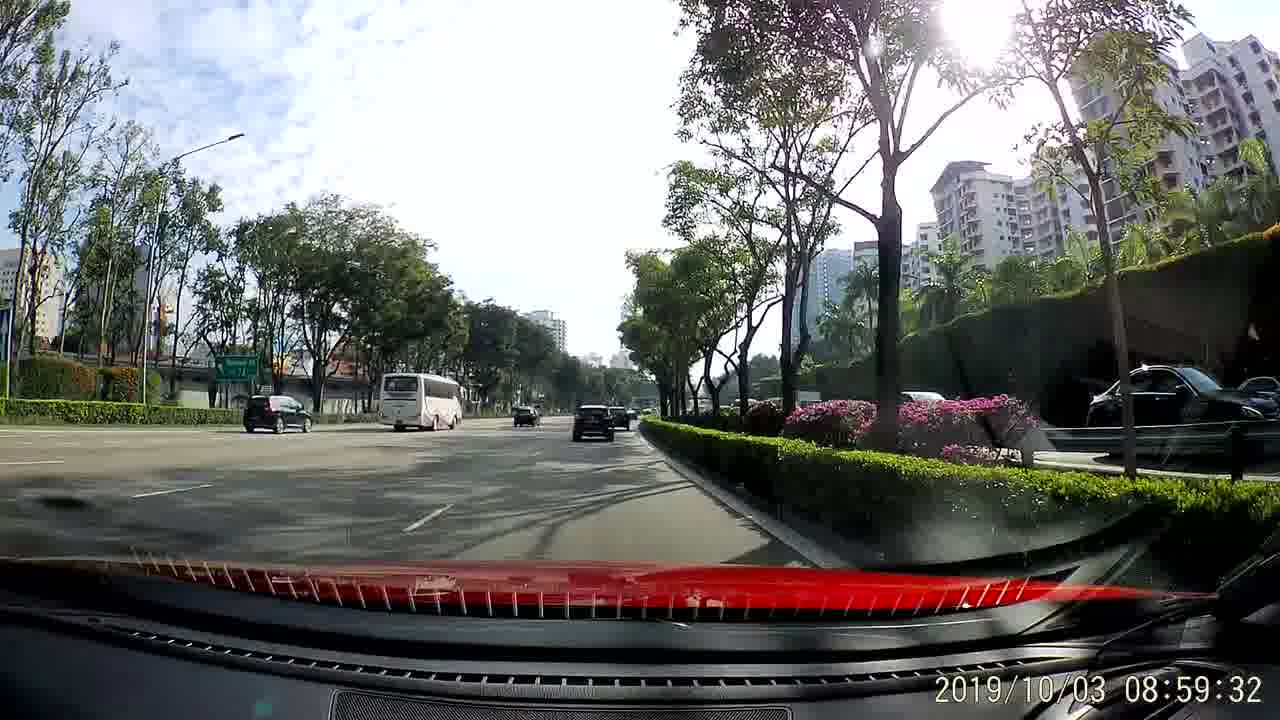bus: (376, 368, 464, 433)
car: (1084, 357, 1273, 460), (242, 393, 315, 437), (570, 403, 617, 444), (513, 401, 543, 430), (610, 405, 632, 430)
